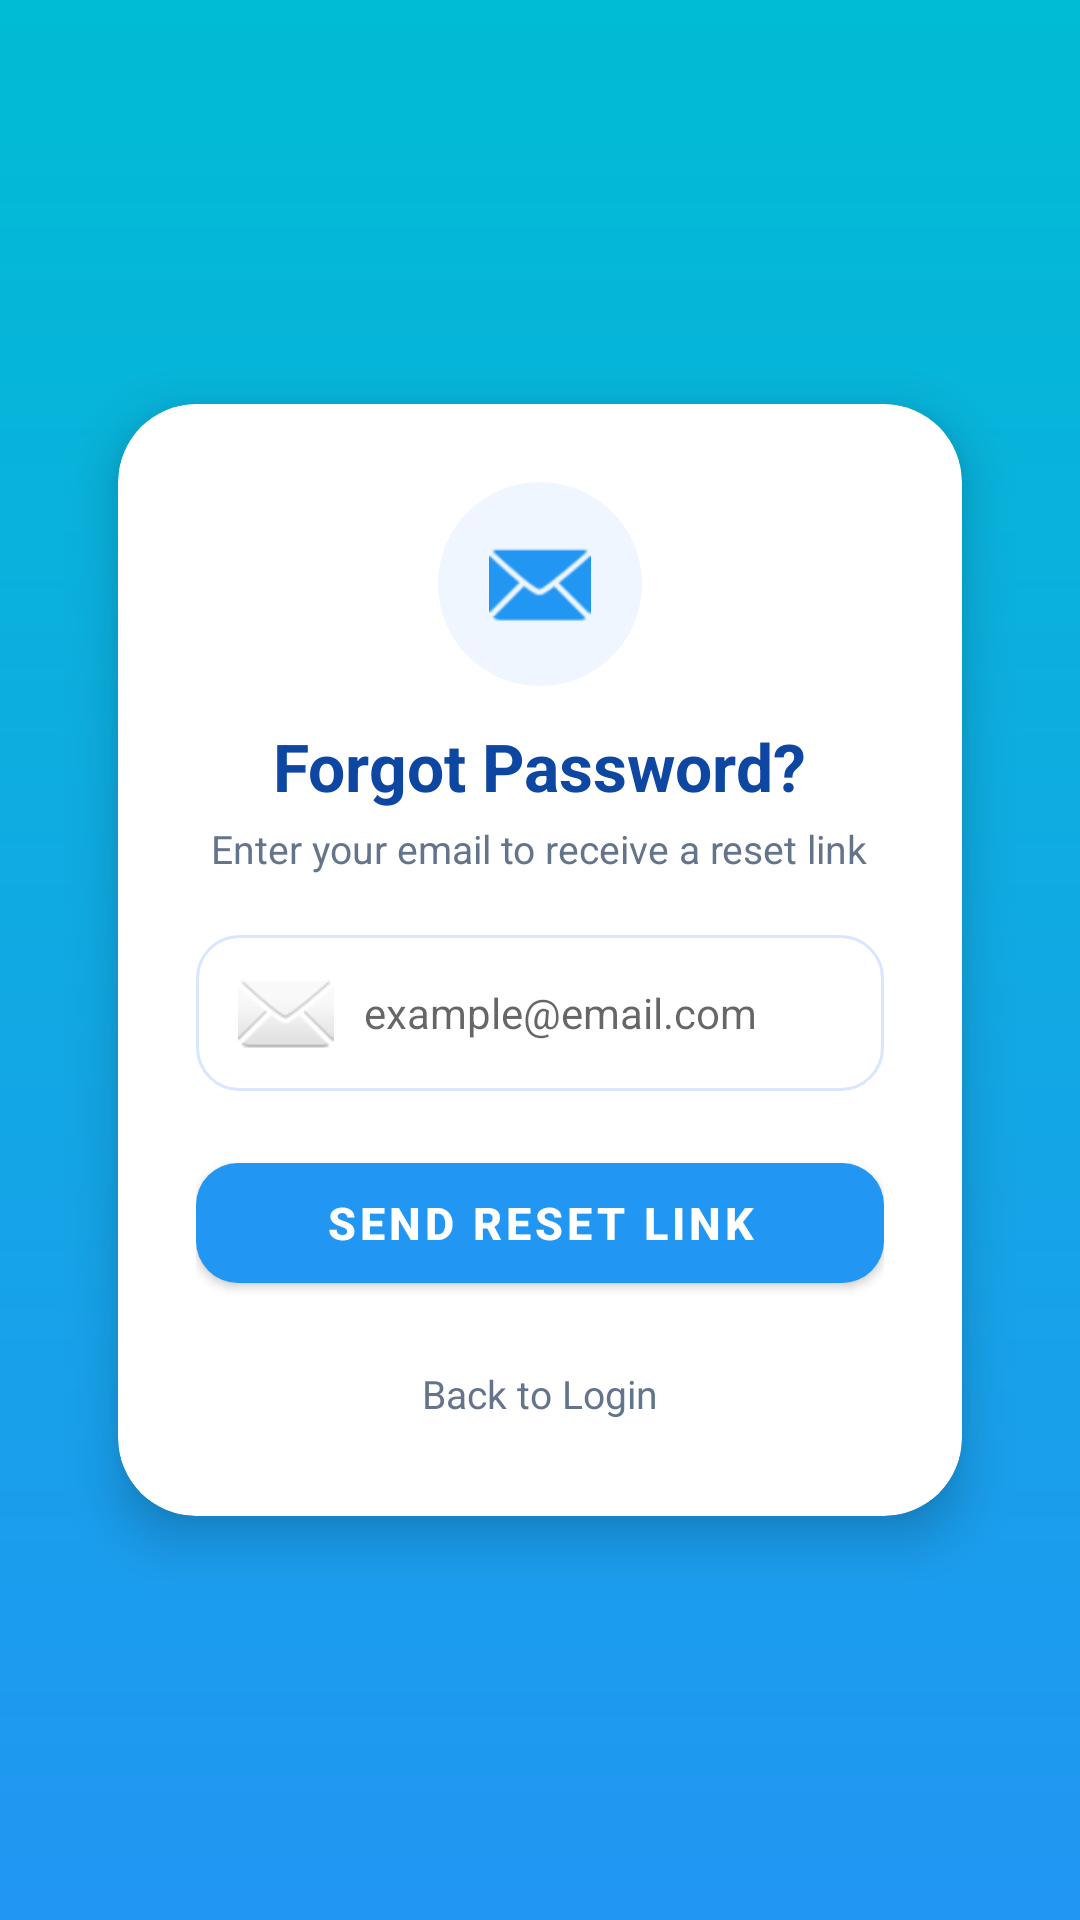

Named icons in this screenshot (1080w x 1920h) and their centers, (x,y):
Email: (540,585)
